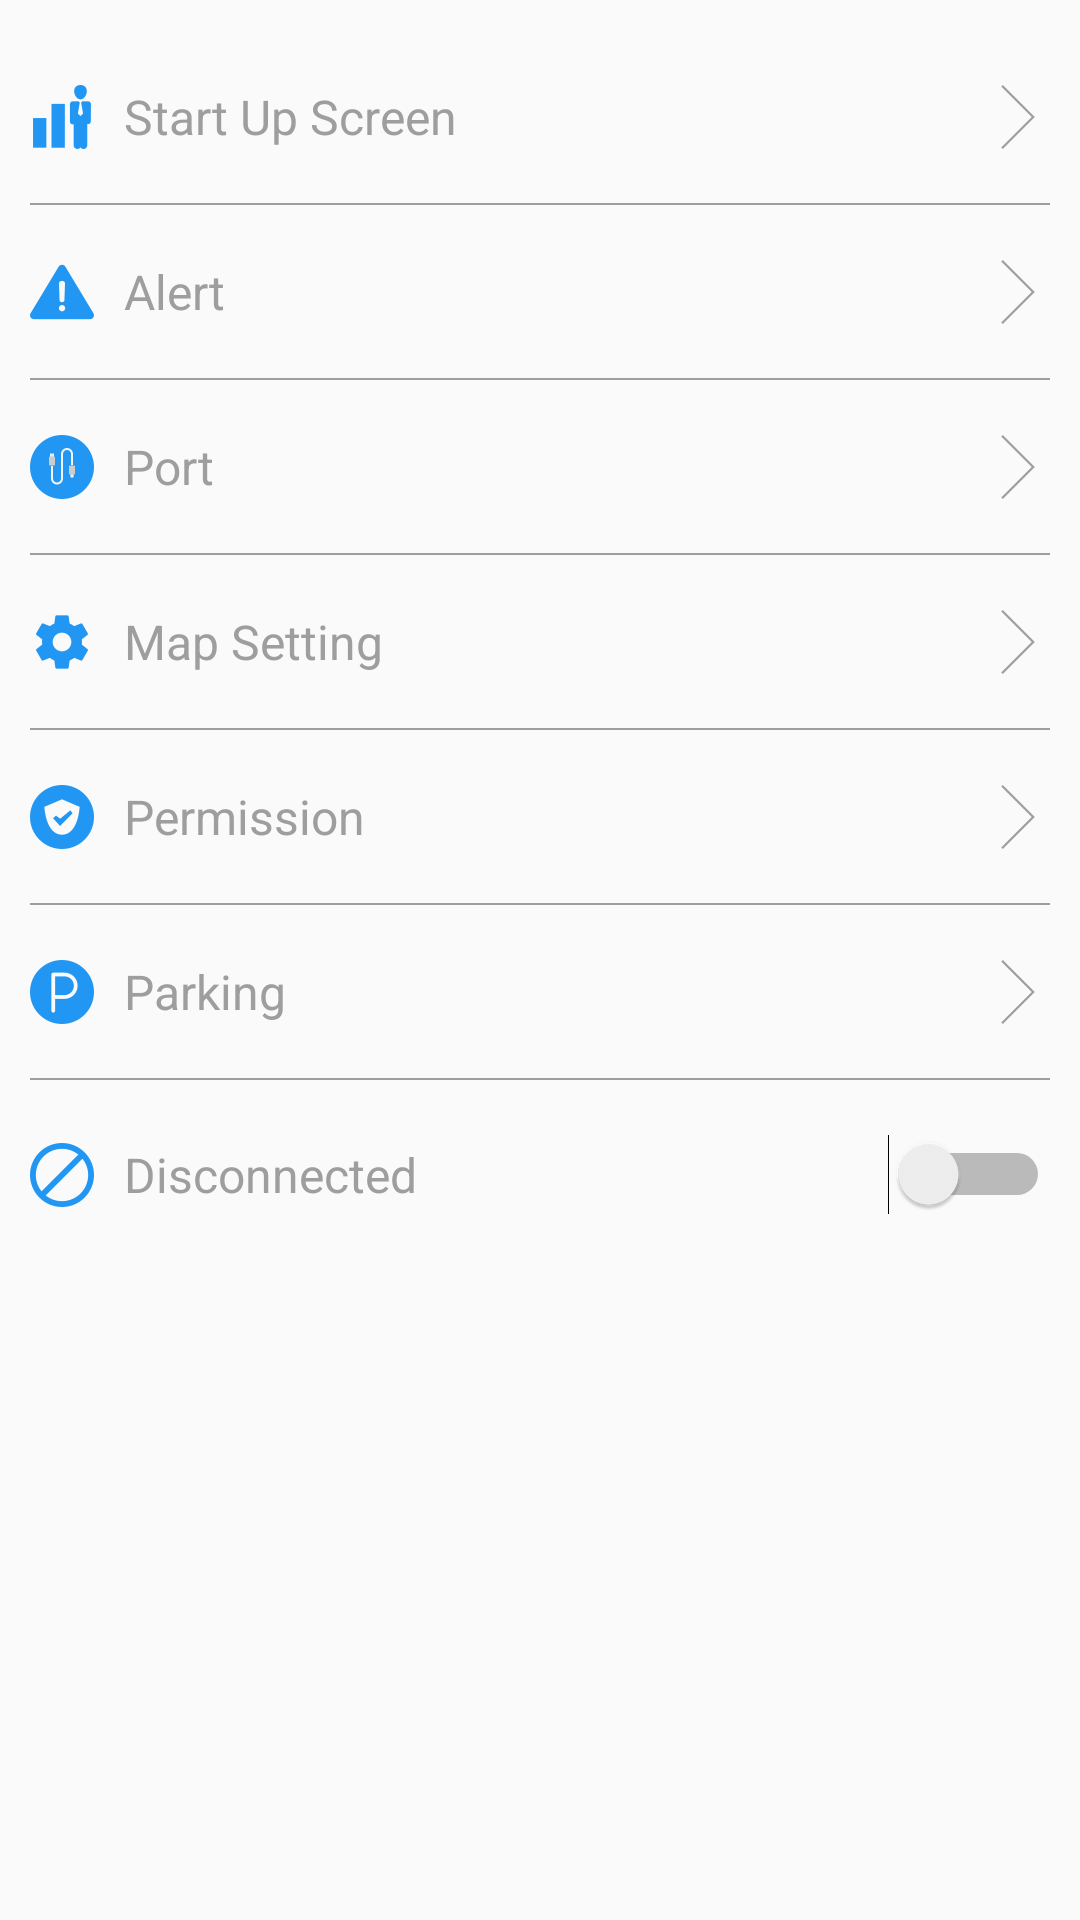

Where icons sit on this 1080px×1920px app screen, as (x1, y1, x2, y2):
arrow right mv: (1001, 85, 1035, 149), (1001, 260, 1035, 324), (1001, 435, 1035, 499), (1001, 610, 1035, 674), (1001, 785, 1035, 849), (1001, 960, 1035, 1024)
denied: (30, 1143, 94, 1207)
settings motorv: (36, 615, 88, 669)
shield: (30, 785, 94, 849)
usb cable: (30, 435, 94, 499)
